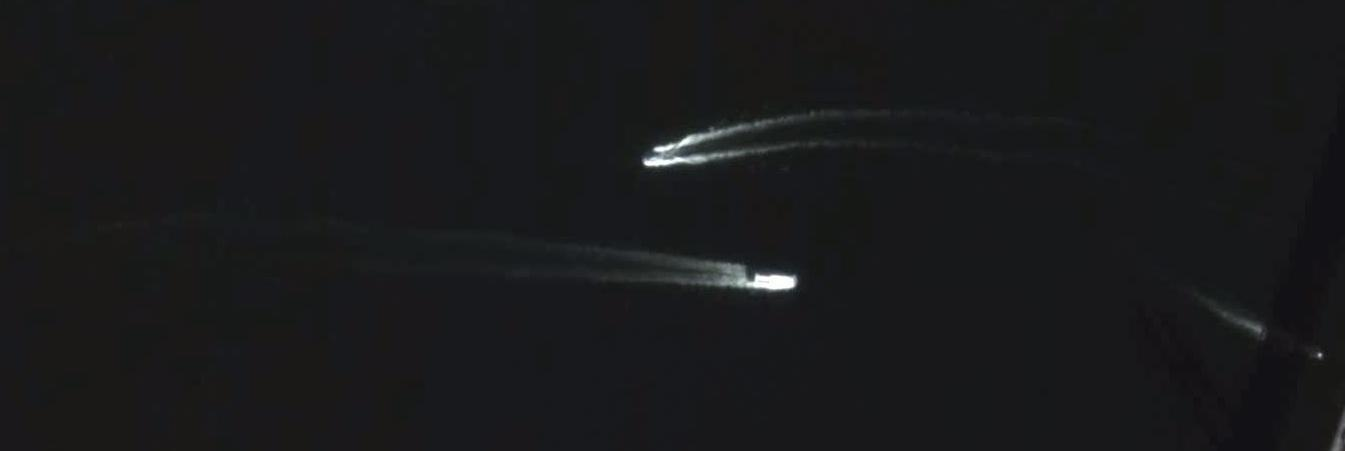person: (755, 271, 797, 290), (1293, 340, 1326, 362), (644, 151, 671, 159)
